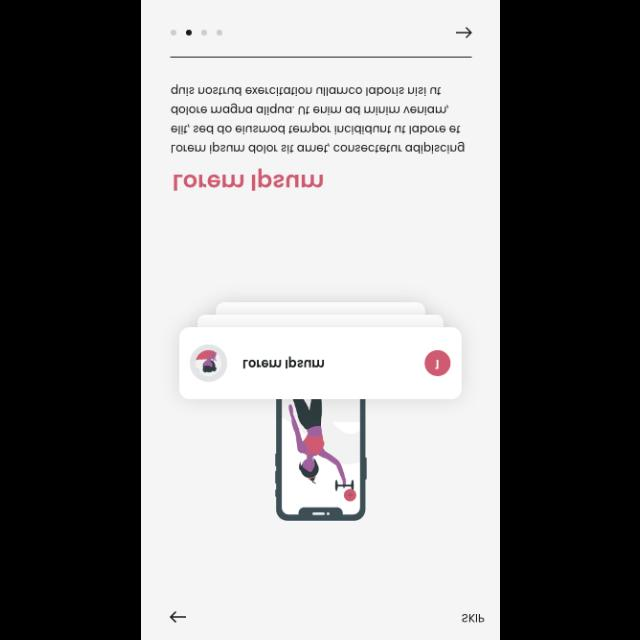icon: (456, 26, 472, 40), (169, 610, 187, 622)
image: (178, 302, 462, 520)
pageindicator: (170, 29, 223, 36)
text: (171, 84, 465, 154), (172, 167, 324, 191), (461, 612, 484, 624)
